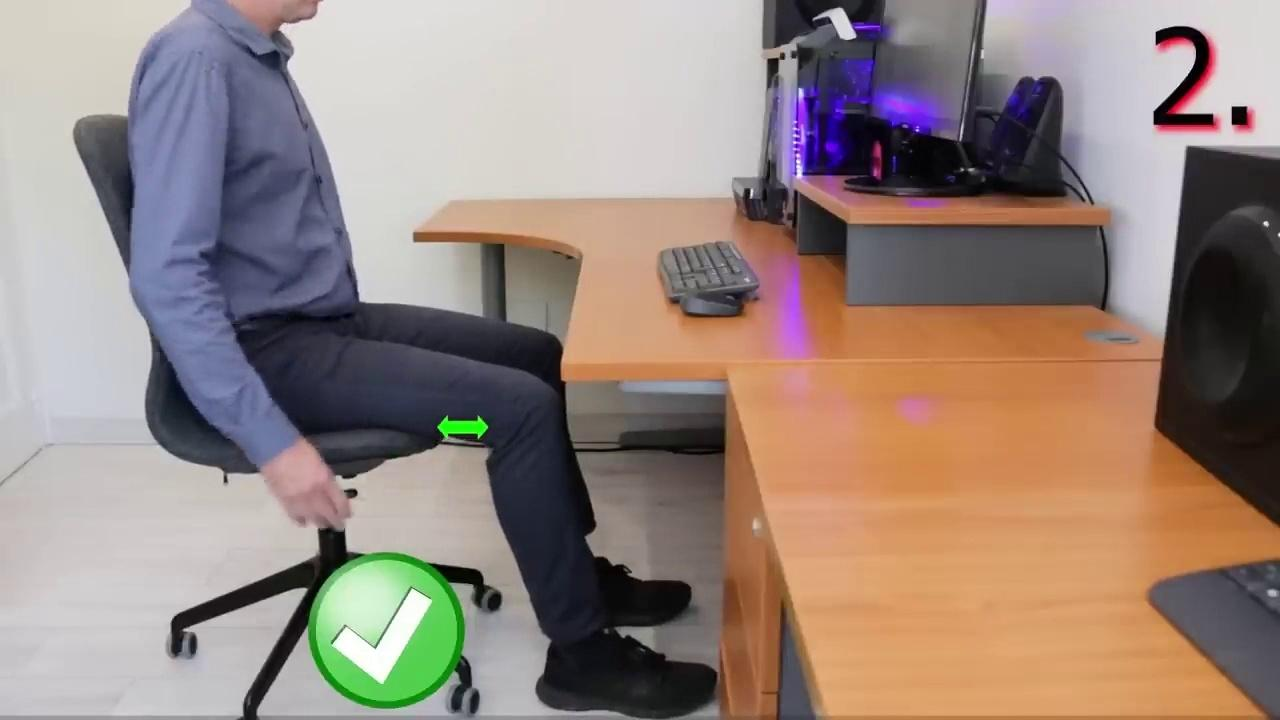GoodPosture: (134, 65, 715, 717)
